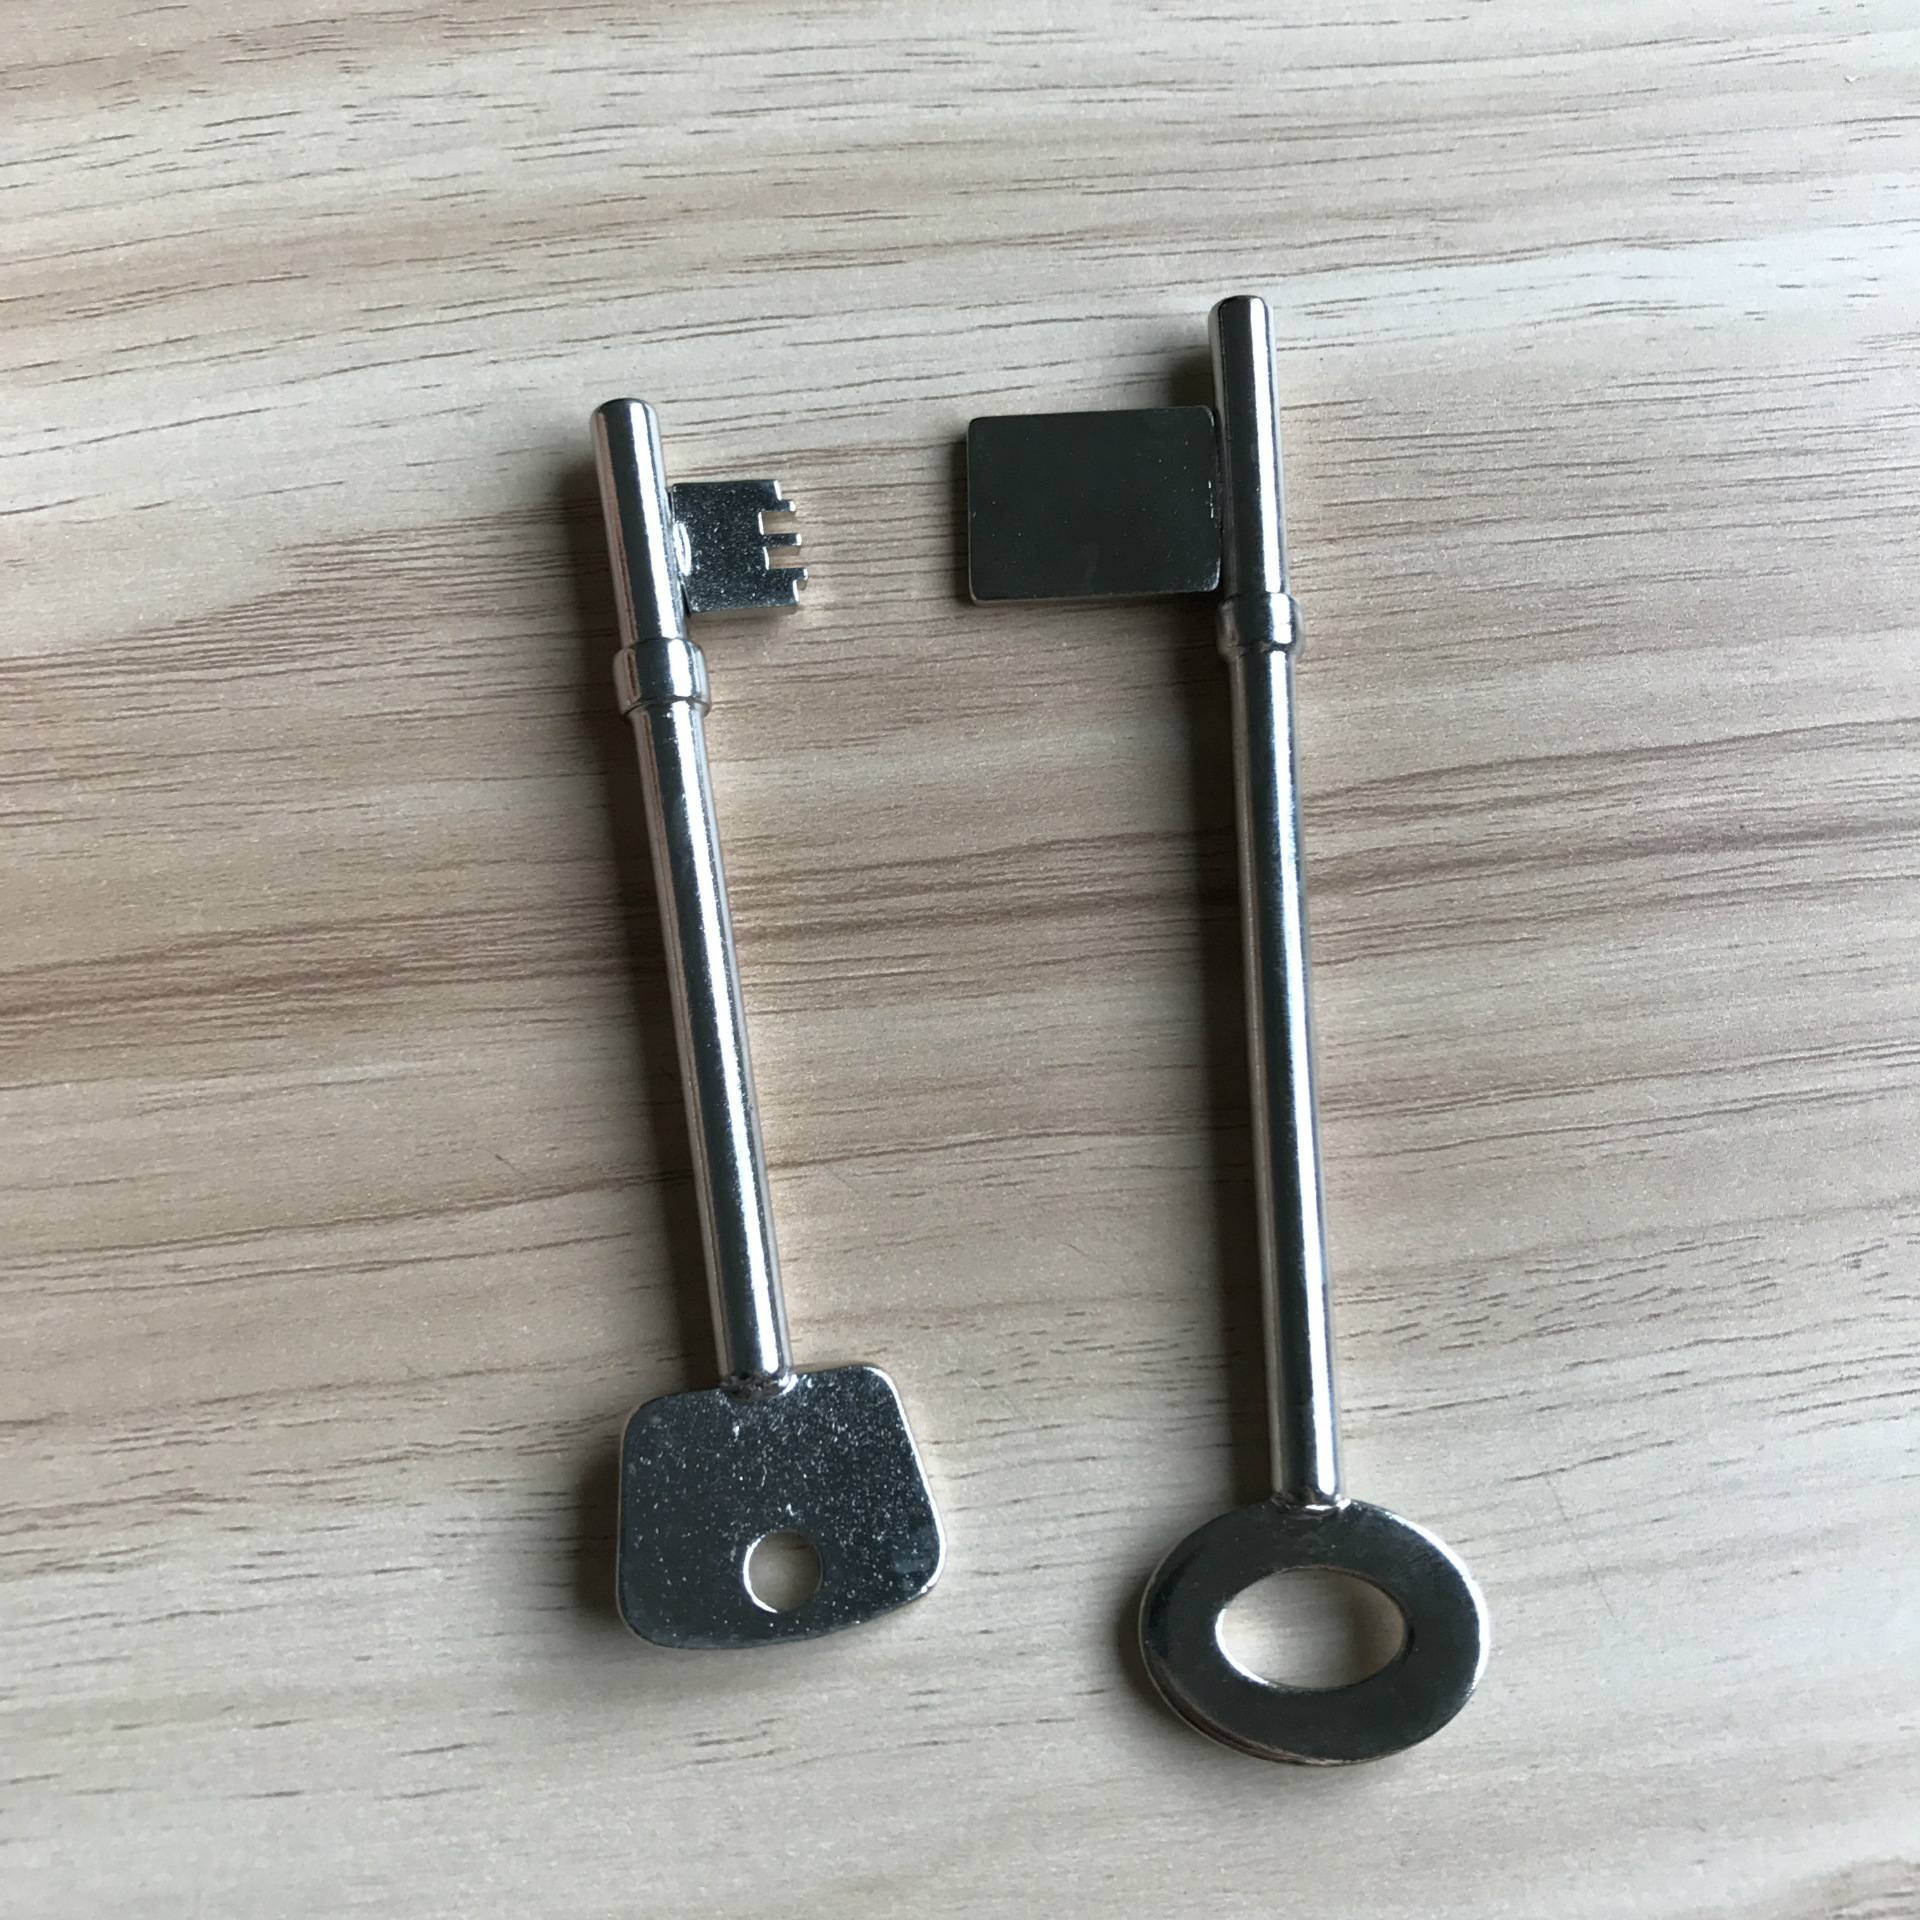key: (958, 294, 1493, 1772), (585, 396, 942, 1662)
